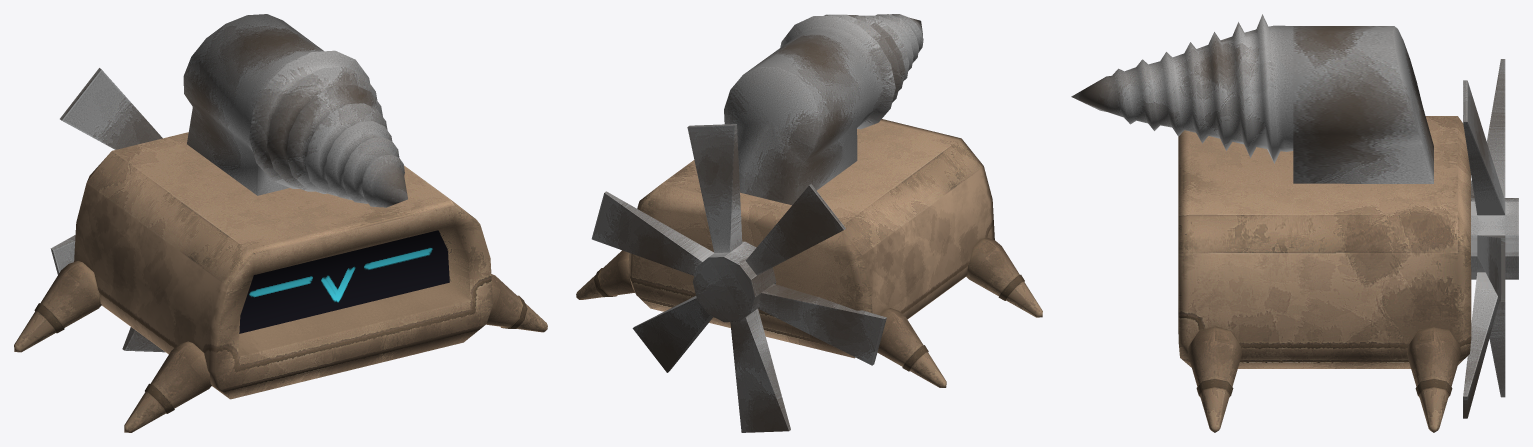
Rendered from DrillyNoAnim.fbx.
3 views of the same model, side by side, from view 1: azimuth 30°, elevation 25°; view 2: azimuth 150°, elevation 25°; view 3: azimuth 270°, elevation 25° (orthographic). The views are drawn at different scales.
Parts seen in each view (by area): view 1: Cube.047, Circle.007, Circle, Cylinder.042, Cylinder.068; view 2: Cube.047, Cylinder.068, Circle, Cylinder.042, Circle.007; view 3: Cube.047, Circle, Circle.007, Cylinder.068, Cylinder.042.
Part boxes in pixels (box(x1,y1,x2,y2)): Cube.047: box(74, 132, 492, 399); Circle.007: box(242, 50, 407, 207); Circle: box(183, 14, 323, 195); Cylinder.042: box(14, 261, 547, 432); Cylinder.068: box(50, 68, 165, 352); Cube.047: box(628, 119, 994, 358); Cylinder.068: box(591, 124, 886, 432); Circle: box(724, 34, 870, 205); Cylinder.042: box(576, 237, 1042, 387); Circle.007: box(780, 14, 923, 129); Cube.047: box(1178, 116, 1471, 368); Circle: box(1293, 26, 1433, 183); Circle.007: box(1071, 14, 1293, 163); Cylinder.068: box(1463, 59, 1518, 418); Cylinder.042: box(1188, 327, 1460, 432).
Bounding box in the file's own units: 0.6981 × 0.6062 × 0.6432.
